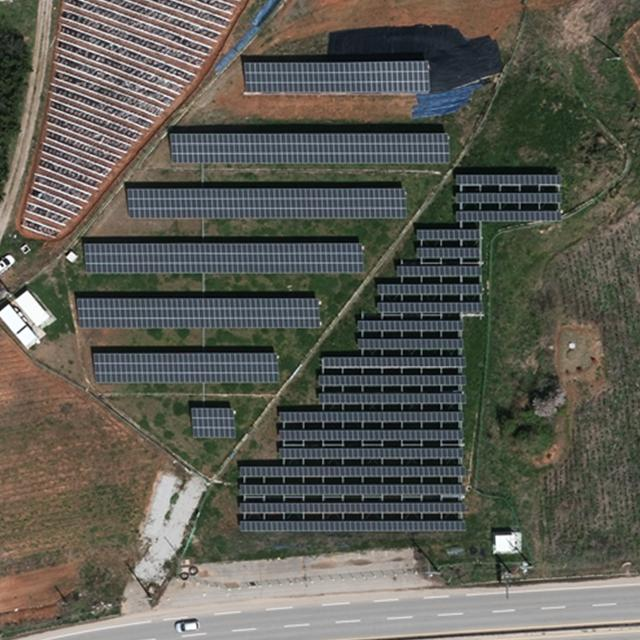panel: (165, 131, 451, 171), (82, 238, 366, 277), (124, 182, 408, 220), (73, 293, 323, 331), (239, 57, 432, 96), (90, 348, 280, 385), (238, 500, 466, 515), (237, 521, 466, 533), (236, 484, 466, 495), (239, 465, 466, 476), (277, 410, 465, 423), (278, 428, 465, 440), (318, 373, 467, 387), (278, 447, 464, 458), (187, 404, 237, 441), (317, 393, 466, 405), (322, 355, 466, 367), (376, 301, 485, 314), (455, 210, 563, 223), (455, 172, 562, 185), (377, 283, 484, 296), (455, 192, 563, 204), (356, 319, 461, 331), (357, 339, 466, 349), (395, 265, 484, 277), (416, 227, 481, 240), (416, 245, 481, 257)
